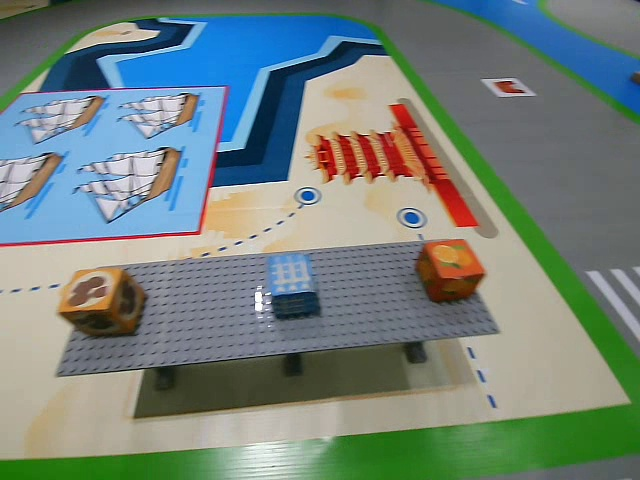fishes: (259, 246, 322, 319)
oranges: (415, 238, 489, 305)
pinecones: (57, 268, 149, 338)
